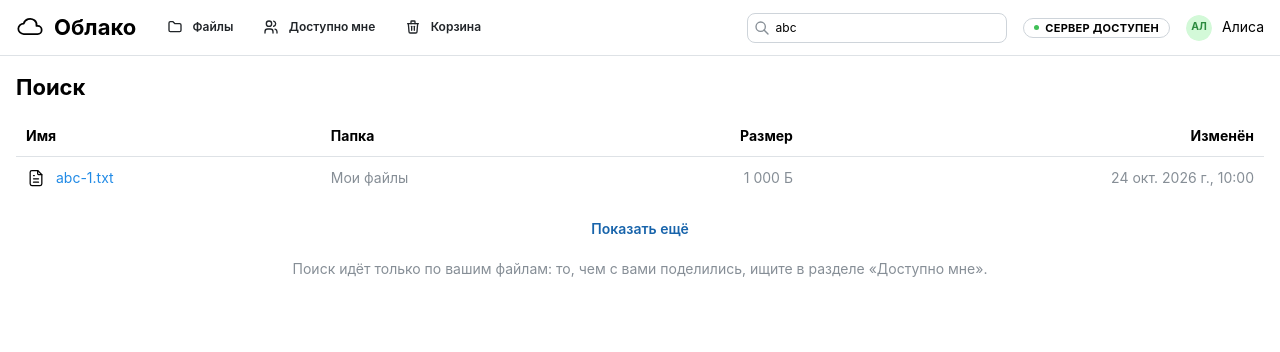
Scenario: SearchPage › loads the next page with the cursor
What coordinates should you click on to do the following:
click the button "Показать ещё"
I would click on:
 (640, 229)
Its box is [572,211,708,247].
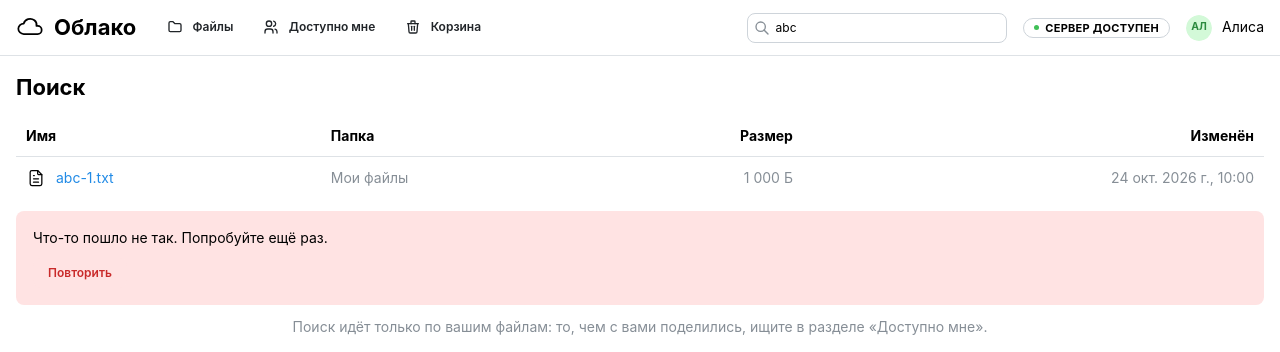
Expected: the button "abc-1.txt" is shown, [56,168,114,188]
What coordinates should you click on to do the following:
click the button "Повторить"
I would click on:
 (80, 274)
Its box is [33,258,127,288].
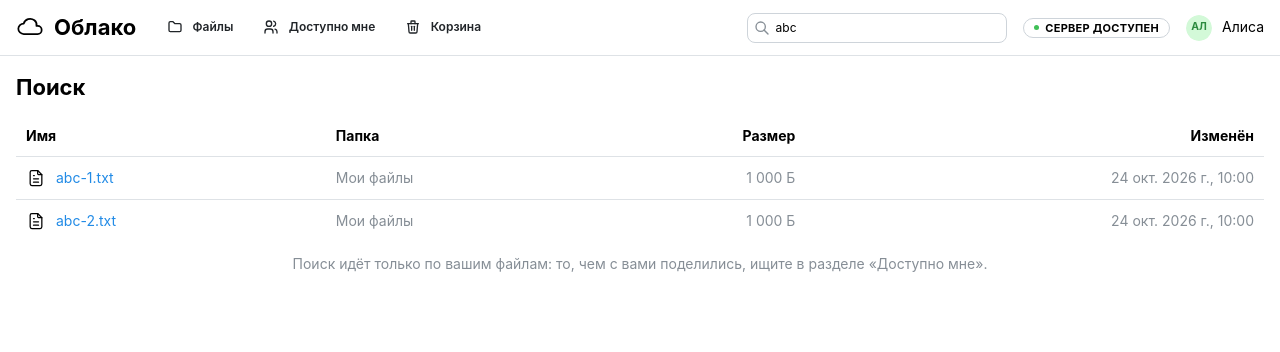
Expected: the button "Показать ещё" is not shown
Expected: the button "abc-2.txt" is shown, [56,211,116,231]
